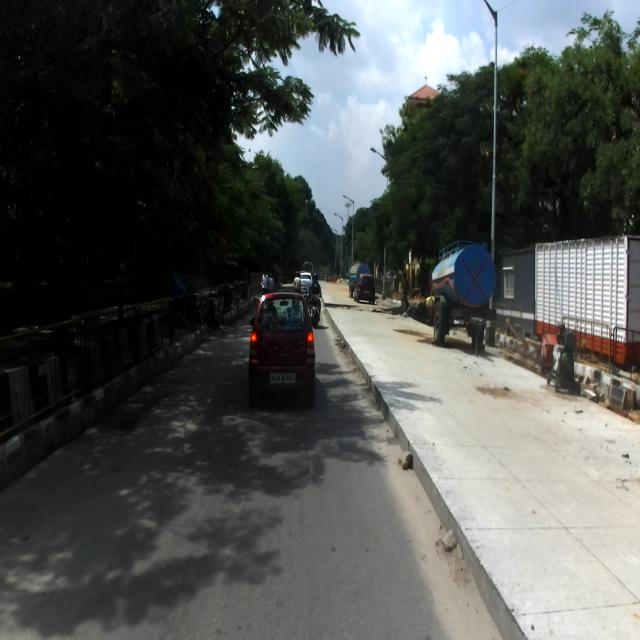car ahead at: (250, 288, 316, 404)
truck ahead at: (430, 248, 498, 353)
